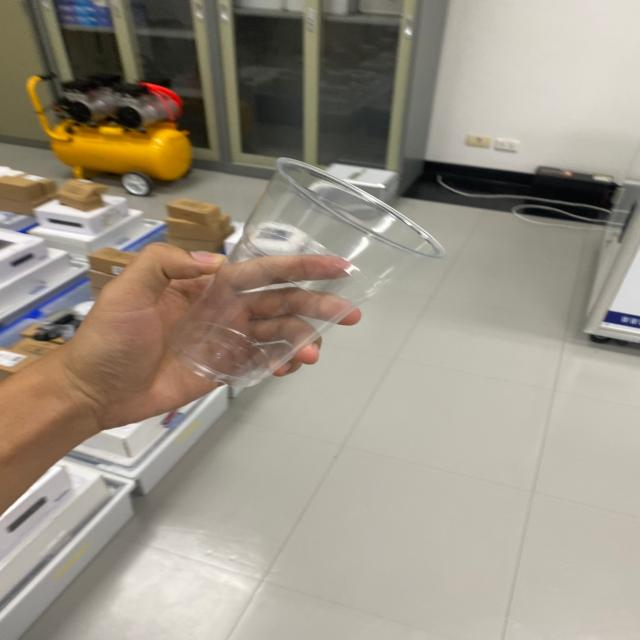glass: (151, 149, 457, 394)
